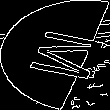M_E: (7, 25, 103, 85)
